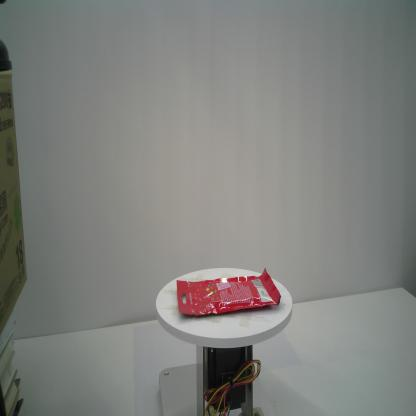Candy: (176, 266, 282, 318)
